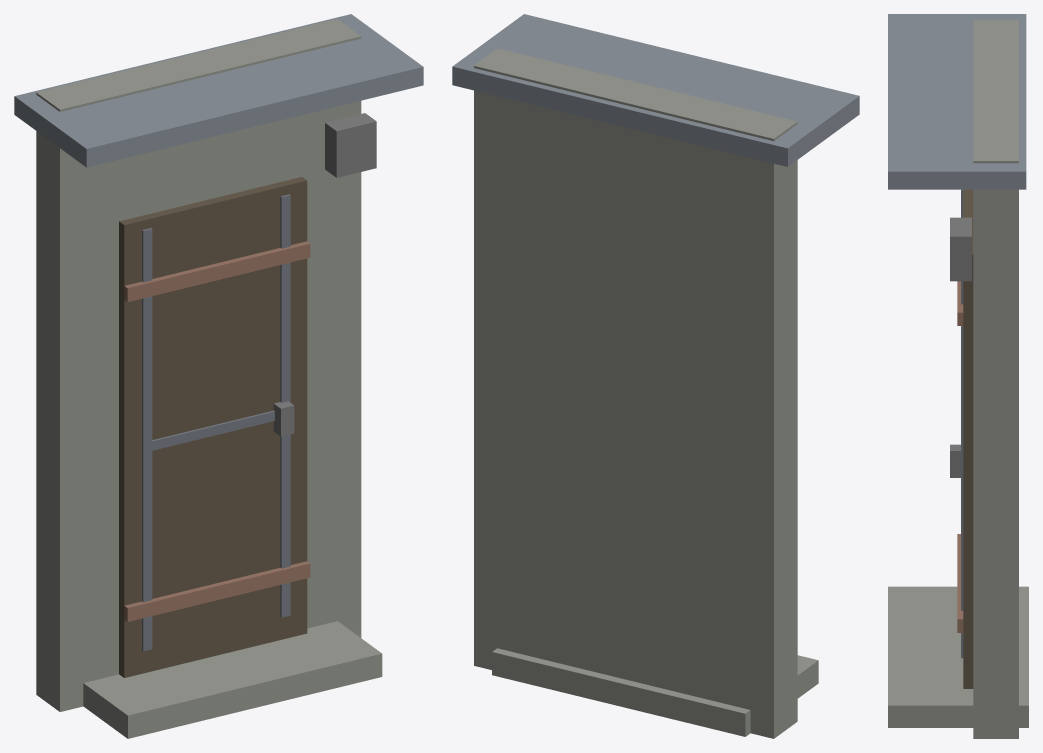
Rendered from entrance_close.fbx.
The picture shows the model from 3 angles, left to right: view 1: azimuth 30°, elevation 25°; view 2: azimuth 150°, elevation 25°; view 3: azimuth 270°, elevation 25°; orthographic projection. The views are drawn at different scales.
Visible parts, largest first — view 1: a2015/500/entrance_close; view 2: a2015/500/entrance_close; view 3: a2015/500/entrance_close.
Boxes of the visible parts, bbox=[...] form: a2015/500/entrance_close: bbox=[14, 14, 423, 738]; a2015/500/entrance_close: bbox=[452, 14, 859, 738]; a2015/500/entrance_close: bbox=[888, 14, 1028, 738].
Bounding box in the file's own units: 1.51 × 2.58 × 0.57.
